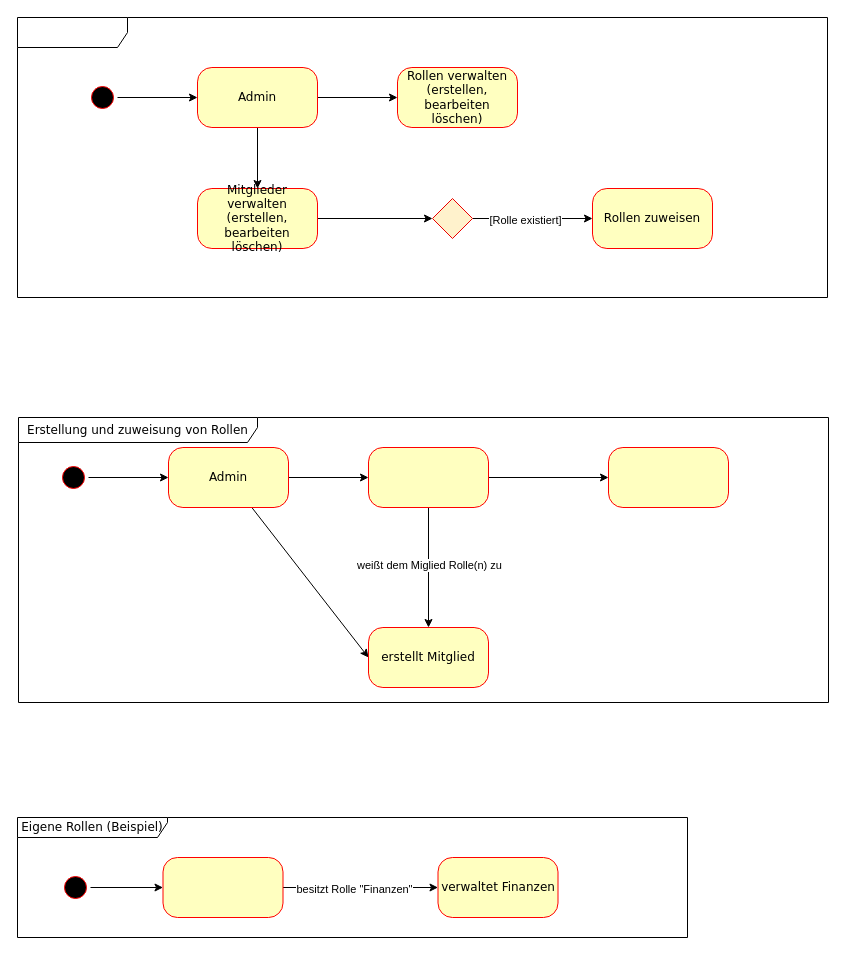
Some shapes in this 846 by 955 pixel diagram are drawn without their labels. The centre of each missing label's shape, as x and y in pixels:
erstellt Rolle: [428,477]
fügt Berechtigungen hinzu: [668,477]
Grundkonstrukt: [422,157]
Mitglied: [222,887]
